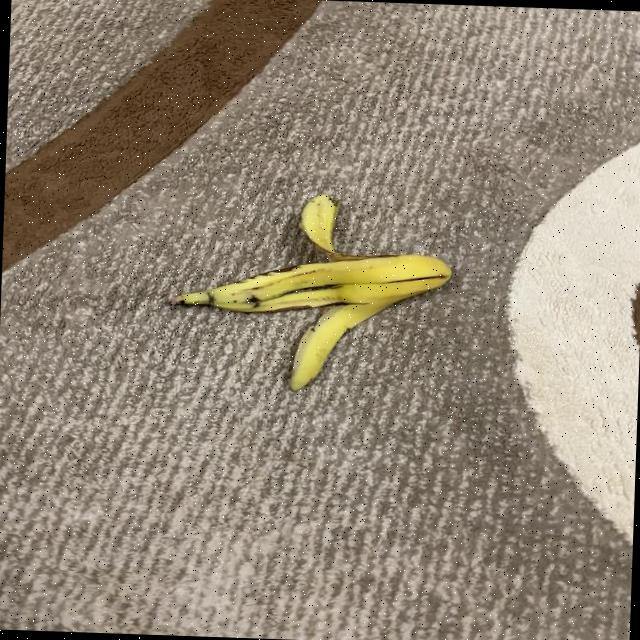banana-peel: (164, 187, 453, 396)
